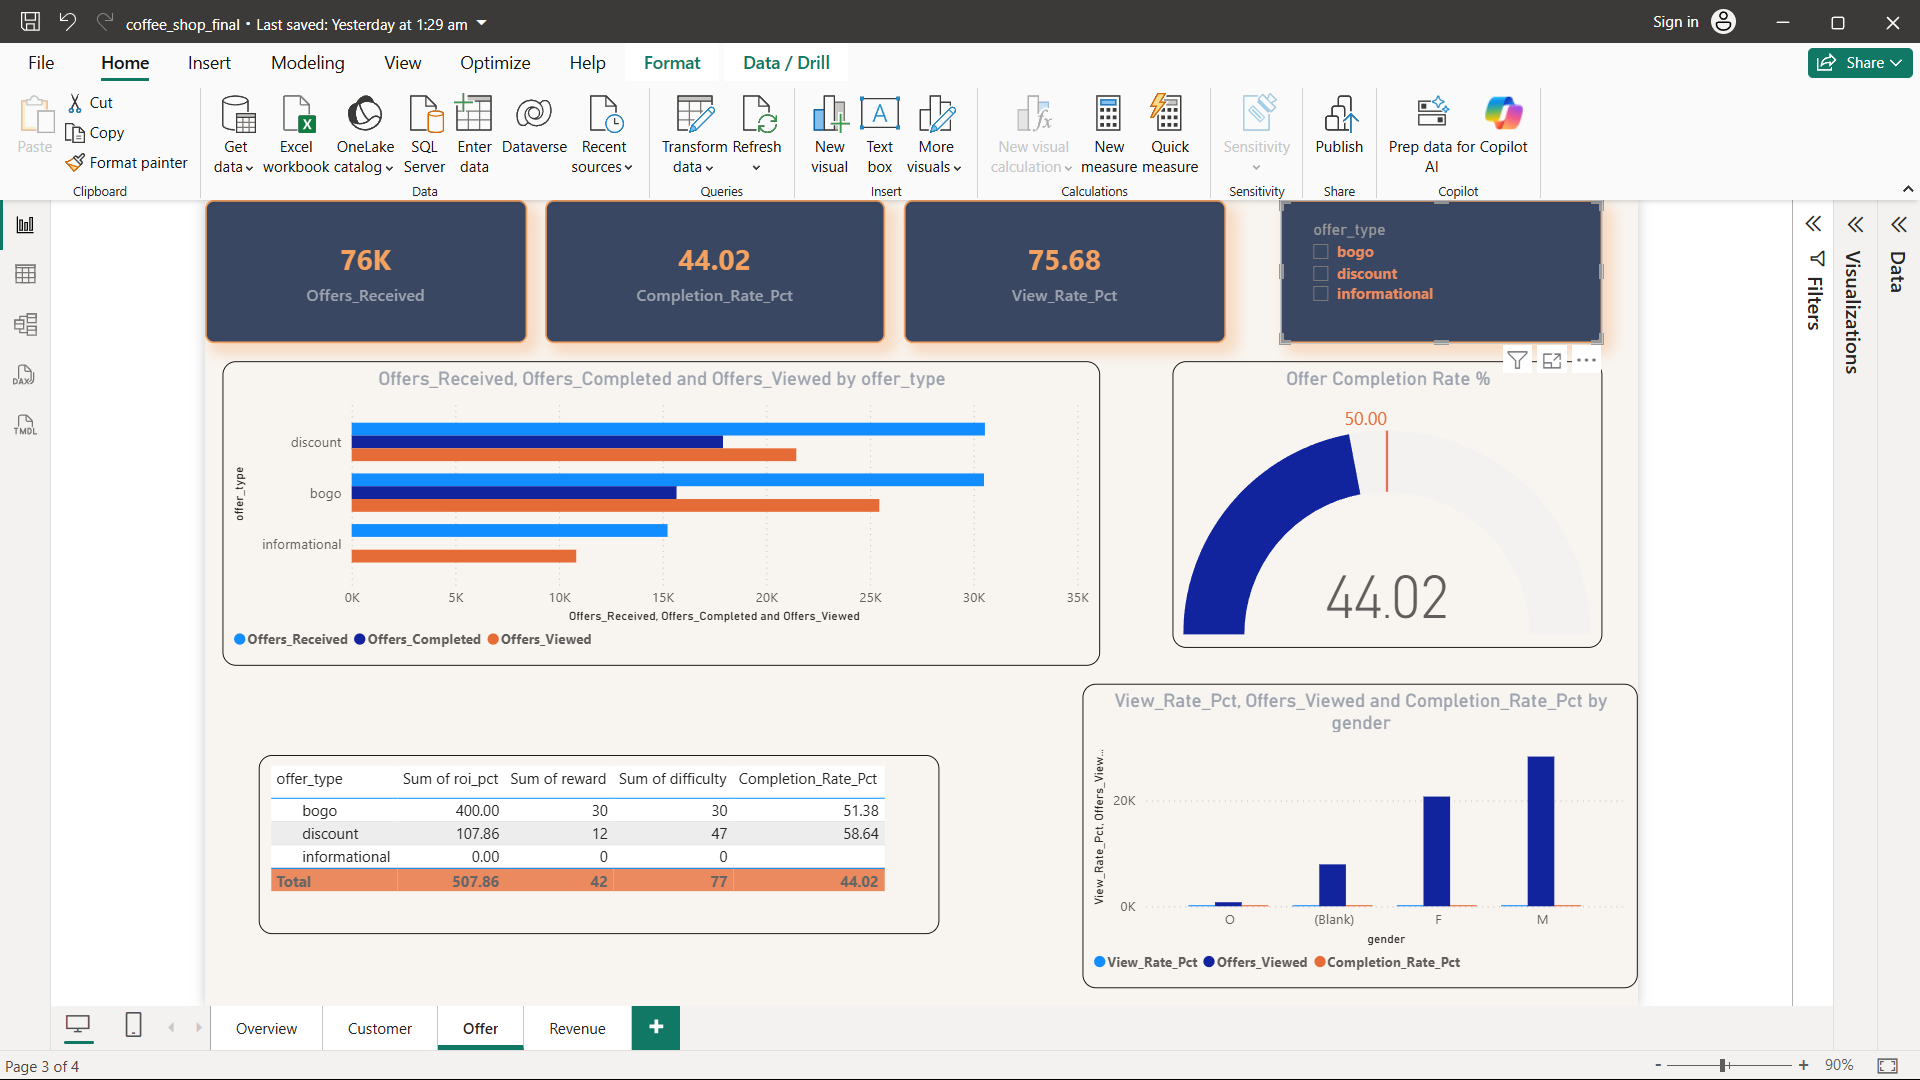

The page's visual inventory and layout, read from the dashboard file:
{"tool":"powerbi","page":{"name":"Offer","canvas":[1280,720],"ordinal":2},"visuals":[{"type":"card","fields":{"Values":["fact_offer_events.Offers_Received"]},"box":[0,0,288,128],"z":0},{"type":"card","fields":{"Values":["fact_offer_events.Completion_Rate_Pct"]},"box":[304,0,304,128],"z":1000},{"type":"card","fields":{"Values":["fact_offer_events.View_Rate_Pct"]},"box":[624,0,288,128],"z":2000},{"type":"gauge","title":"Offer Completion Rate %","fields":{"Y":["fact_offer_events.Completion_Rate_Pct"]},"box":[864,144,384,256],"z":3000},{"type":"clusteredBarChart","fields":{"Category":["dim_offers.offer_type"],"Y":["fact_offer_events.Offers_Received","fact_offer_events.Offers_Completed","fact_offer_events.Offers_Viewed"]},"box":[16,144,784,272],"z":4000},{"type":"slicer","fields":{"Values":["dim_offers.offer_type"]},"box":[960,0,288,128],"z":5000},{"type":"tableEx","fields":{"Values":["dim_offers.offer_type","Sum(dim_offers.roi_pct)","Sum(dim_offers.reward)","Sum(dim_offers.difficulty)","fact_offer_events.Completion_Rate_Pct"]},"box":[48,496,608,160],"z":6000},{"type":"clusteredColumnChart","fields":{"Y":["fact_offer_events.View_Rate_Pct","fact_offer_events.Offers_Viewed","fact_offer_events.Completion_Rate_Pct"],"Category":["dim_customers.gender"]},"box":[784,432,496,272],"z":7001}]}

Visuals, with their boxes on the page's 1280x720 design canvas (x1, y1, x2, y2). These are canvas units, not pixel positions in the 1920x1080 screenshot, which may show the page scaled, cropped or inside an application window:
card - fact_offer_events.Offers_Received: (0,0,288,128)
card - fact_offer_events.Completion_Rate_Pct: (304,0,608,128)
card - fact_offer_events.View_Rate_Pct: (624,0,912,128)
"Offer Completion Rate %" gauge: (864,144,1248,400)
clusteredBarChart - dim_offers.offer_type x fact_offer_events.Offers_Received: (16,144,800,416)
slicer - dim_offers.offer_type: (960,0,1248,128)
tableEx - dim_offers.offer_type x Sum(dim_offers.roi_pct): (48,496,656,656)
clusteredColumnChart - fact_offer_events.View_Rate_Pct x fact_offer_events.Offers_Viewed: (784,432,1280,704)
